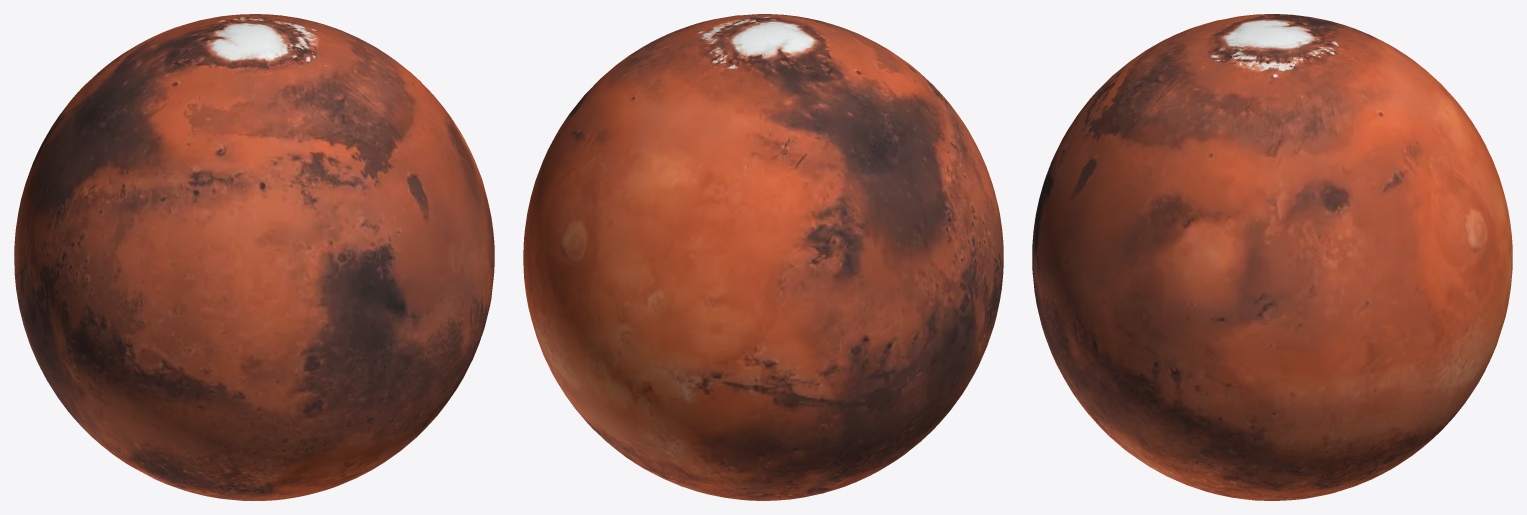
Rendered from mars.glb.
The picture shows the model from 3 angles, left to right: view 1: azimuth 30°, elevation 25°; view 2: azimuth 150°, elevation 25°; view 3: azimuth 270°, elevation 25°; orthographic projection.
Parts seen in each view (by area): view 1: pSphere1_lambert3_0; view 2: pSphere1_lambert3_0; view 3: pSphere1_lambert3_0.
Boxes of the visible parts, box(x1,y1,x2,y2) form: pSphere1_lambert3_0: box(14, 14, 494, 500); pSphere1_lambert3_0: box(523, 14, 1003, 500); pSphere1_lambert3_0: box(1032, 14, 1512, 500).
Bounding box in the file's own units: 14.38 × 14.65 × 14.37.
1 material, 1 textured.
